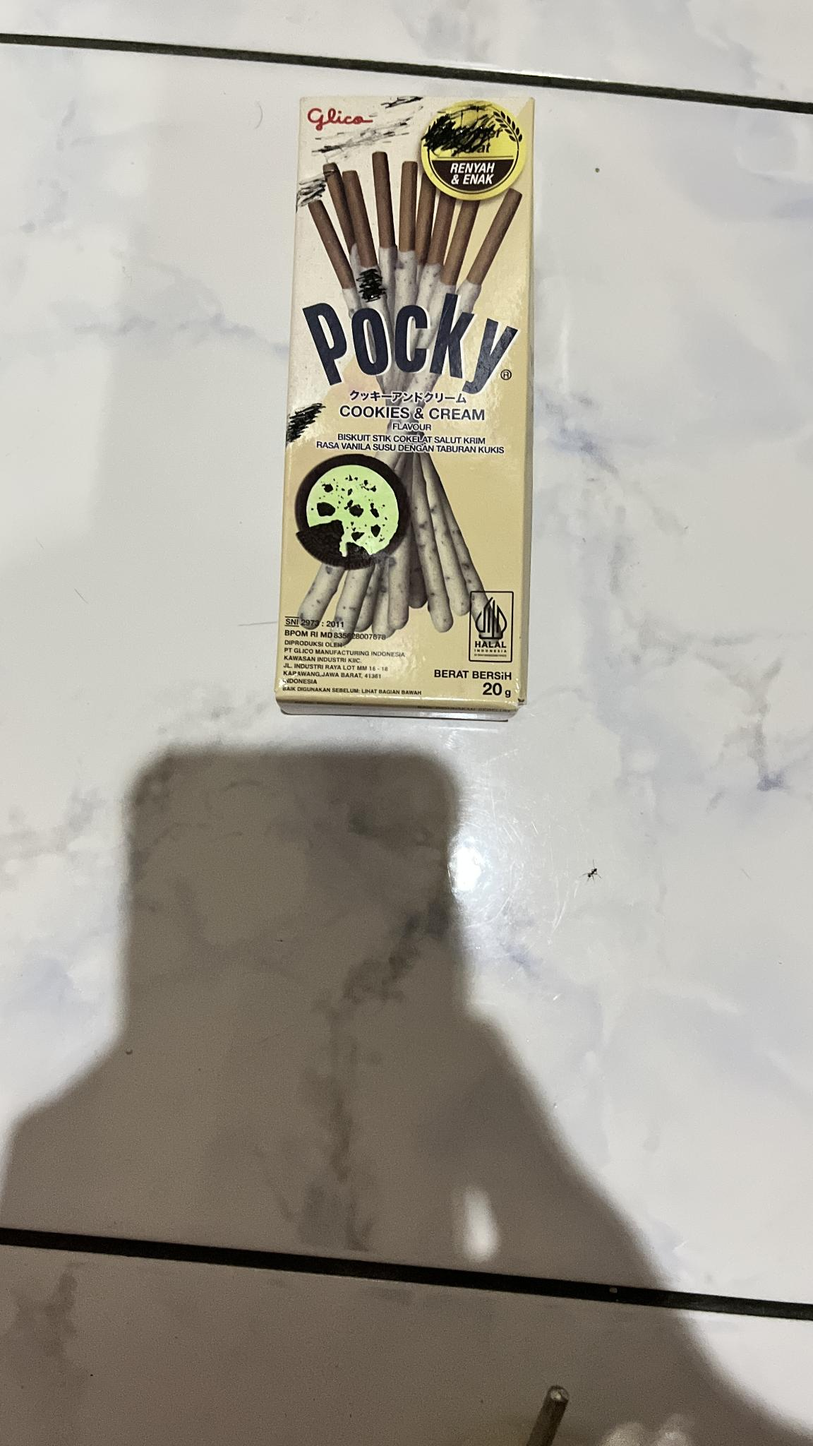Kertas: (271, 92, 538, 707)
